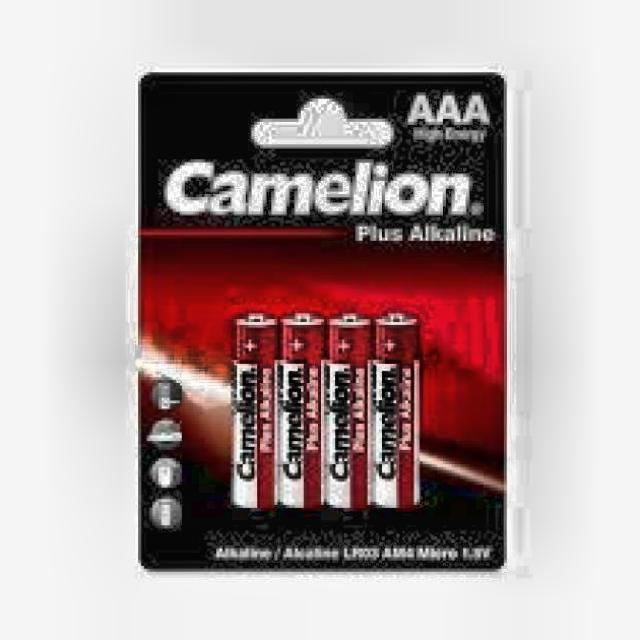battery: (141, 72, 504, 566), (280, 313, 328, 509), (230, 314, 276, 510)
